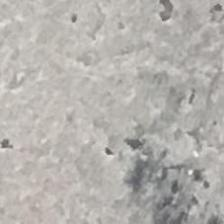Non_Crack: (30, 29, 216, 207)
